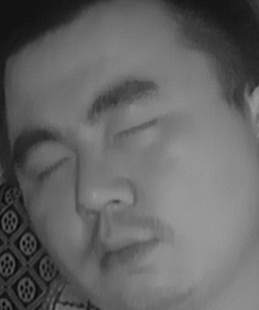blink: (111, 113, 162, 147), (28, 152, 71, 185)
mouth: (88, 221, 166, 278)
